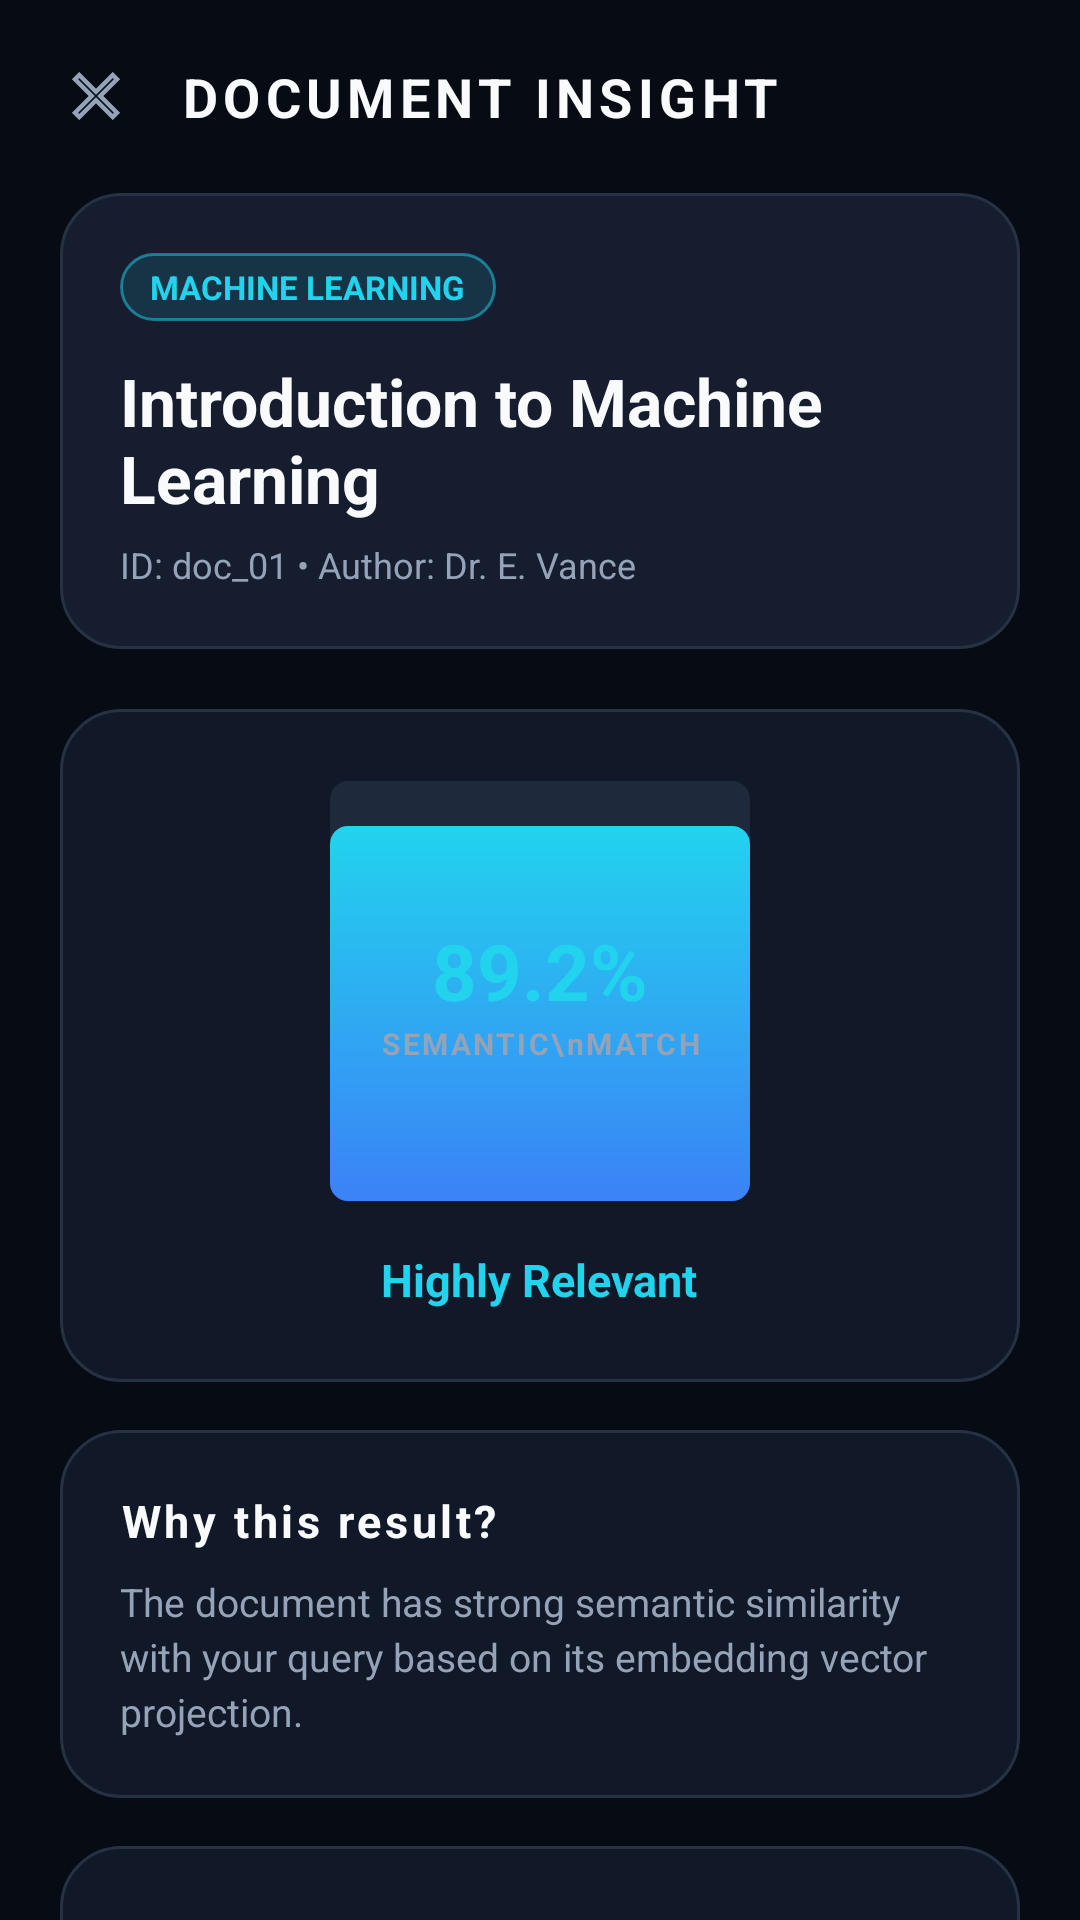

Locate icon controls on the screen. Image size 1080px x 1920px, boxes as (x1, y1, x2, y2).
close: (72, 72, 120, 120)
